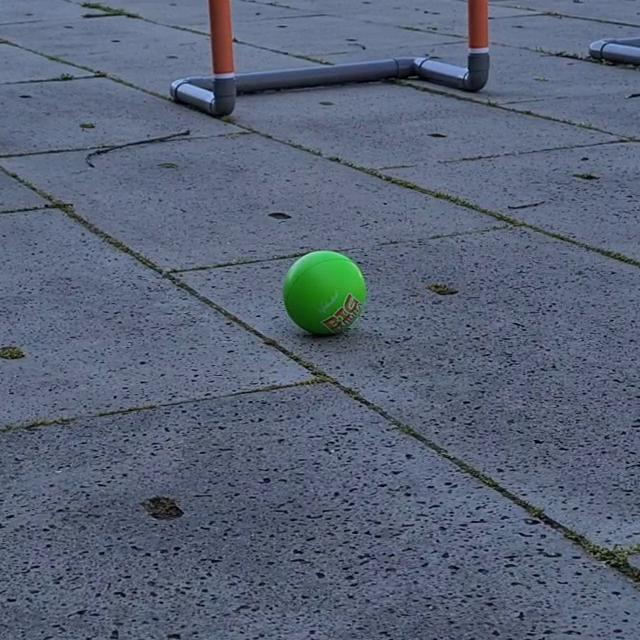ball: (279, 245, 369, 344)
